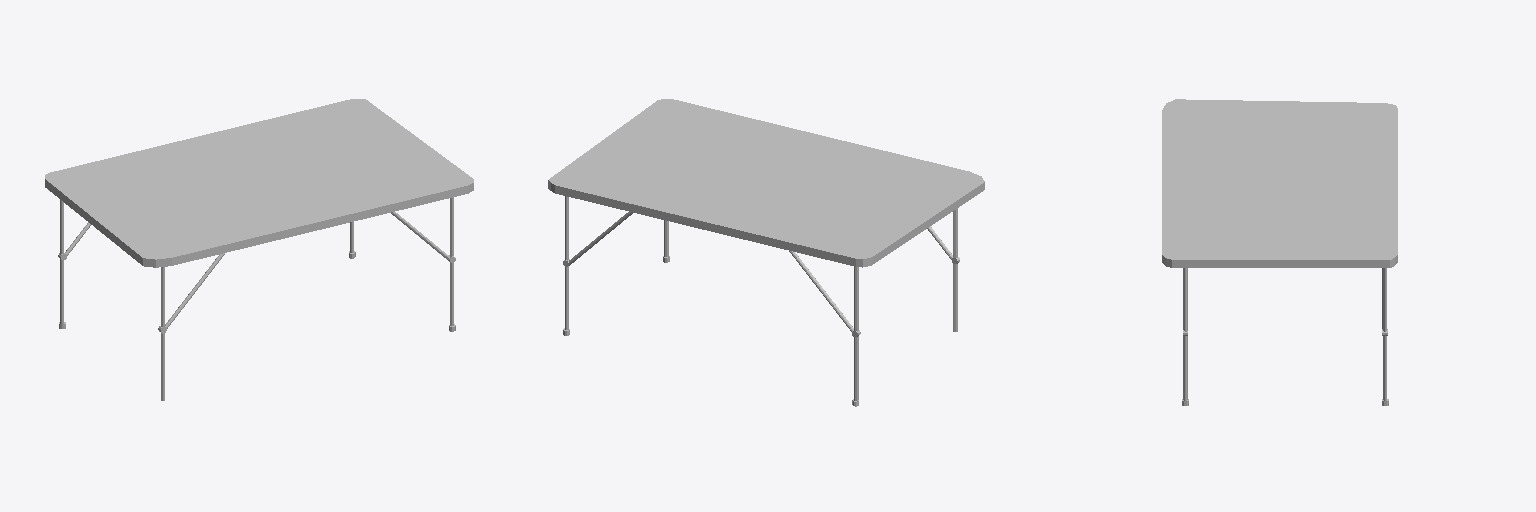
Rendered from table-small.obj.
The picture shows the model from 3 angles: view 1: azimuth 30°, elevation 25°; view 2: azimuth 150°, elevation 25°; view 3: azimuth 270°, elevation 25°; orthographic projection.
Visible parts, largest first — view 1: Cube.037_Cube; view 2: Cube.037_Cube, Cylinder.007, Cylinder.004; view 3: Cube.037_Cube, Cylinder.005.
Boxes of the visible parts, x1=… form: Cube.037_Cube: x1=45, y1=99, x2=473, y2=267; Cube.037_Cube: x1=548, y1=99, x2=984, y2=267; Cylinder.007: x1=854, y1=267, x2=858, y2=400; Cylinder.004: x1=953, y1=208, x2=957, y2=331; Cube.037_Cube: x1=1162, y1=99, x2=1397, y2=267; Cylinder.005: x1=1183, y1=268, x2=1187, y2=400.
Bounding box in the file's own units: 3.23 × 1.43 × 2.